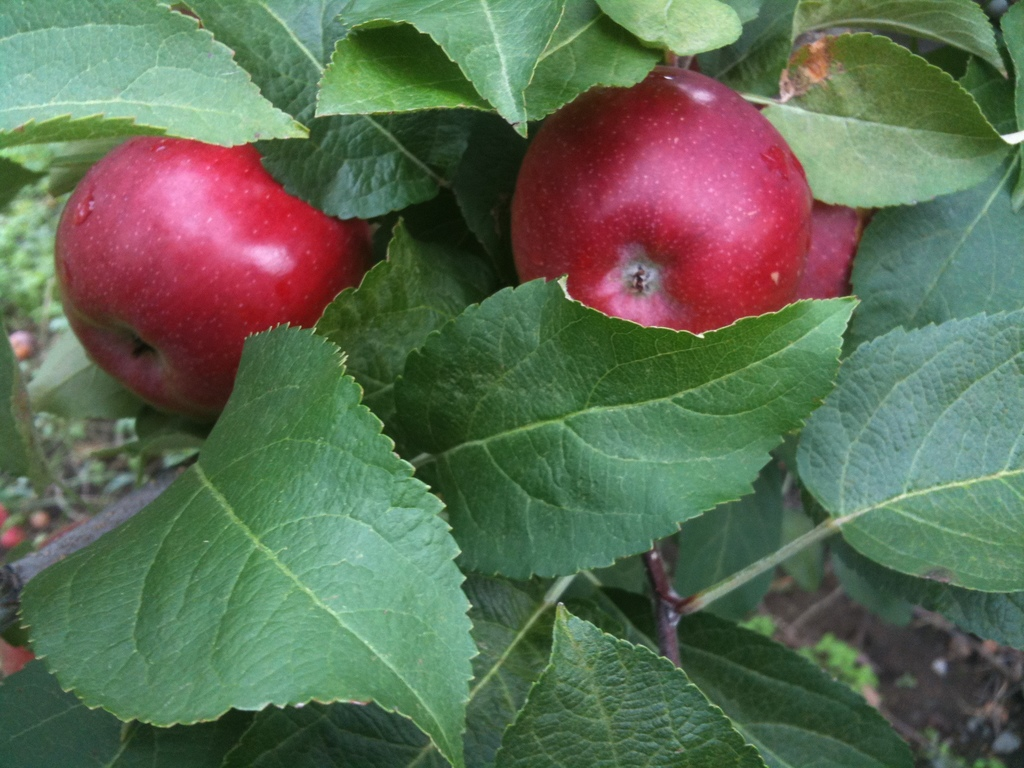Apple: (46, 126, 360, 418), (504, 60, 810, 334), (796, 190, 872, 293)
